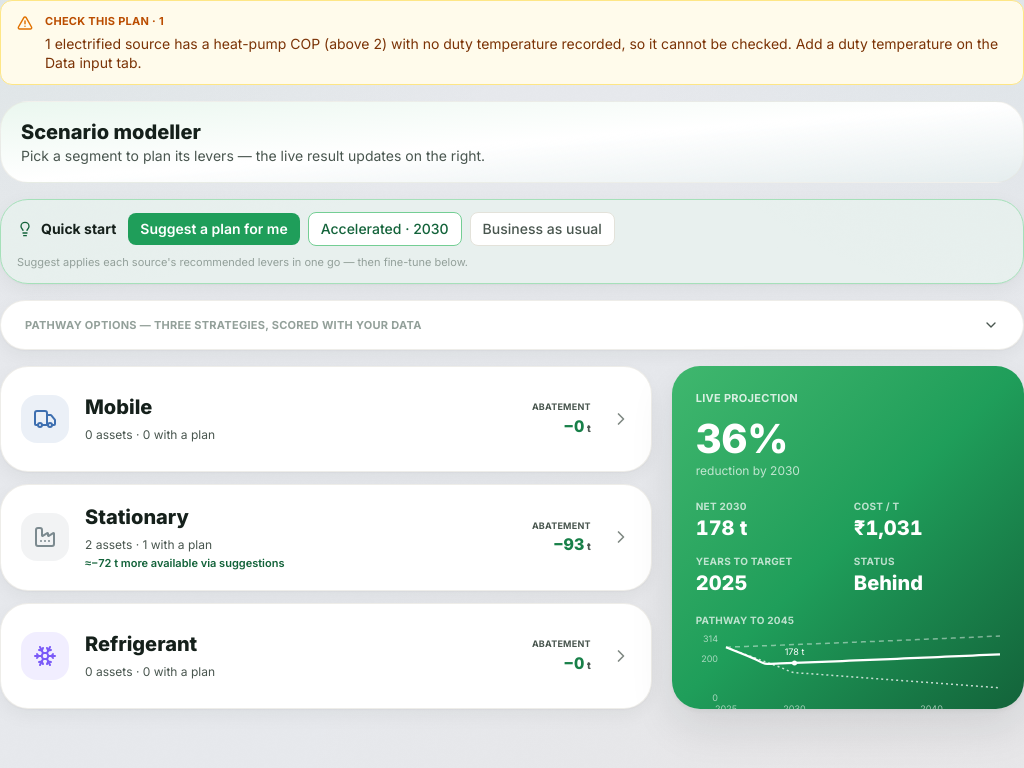
Test: BuilderTab — one planning card per equipment (Task 7, D3) › gives each card the machine's OWN allocated volume, not the source total
Click the text "Stationary" at (137, 517), box [85,505,189,529]
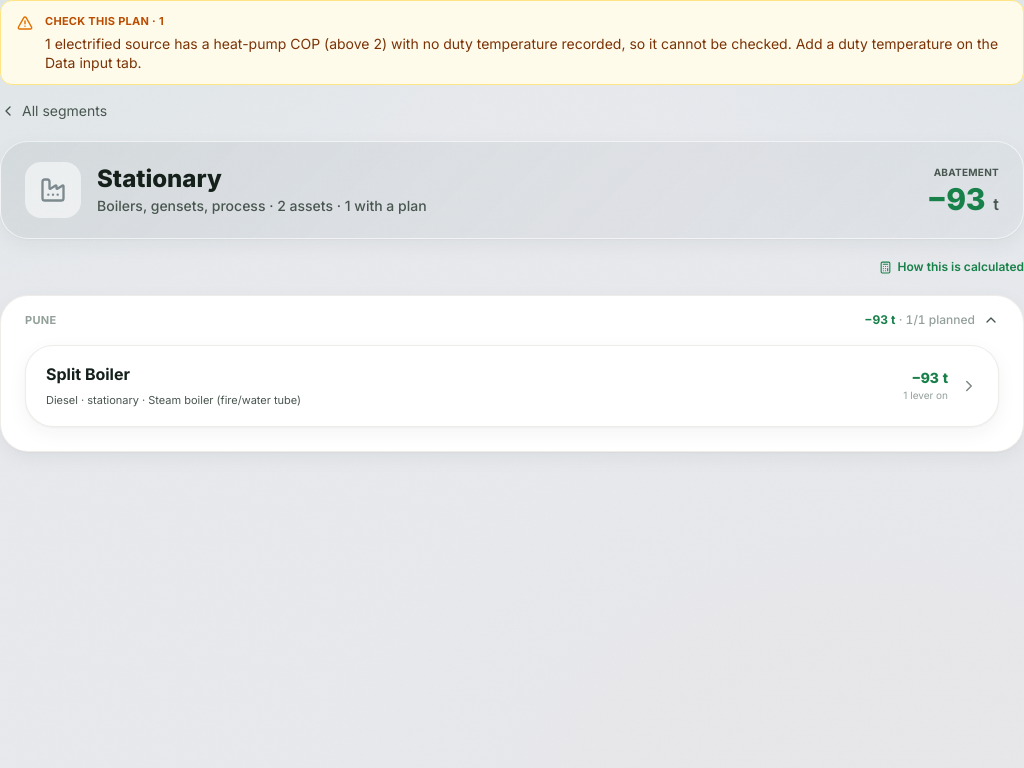
Click the text "Split Boiler" at (88, 374), box [46,362,130,386]
(page scrolled)
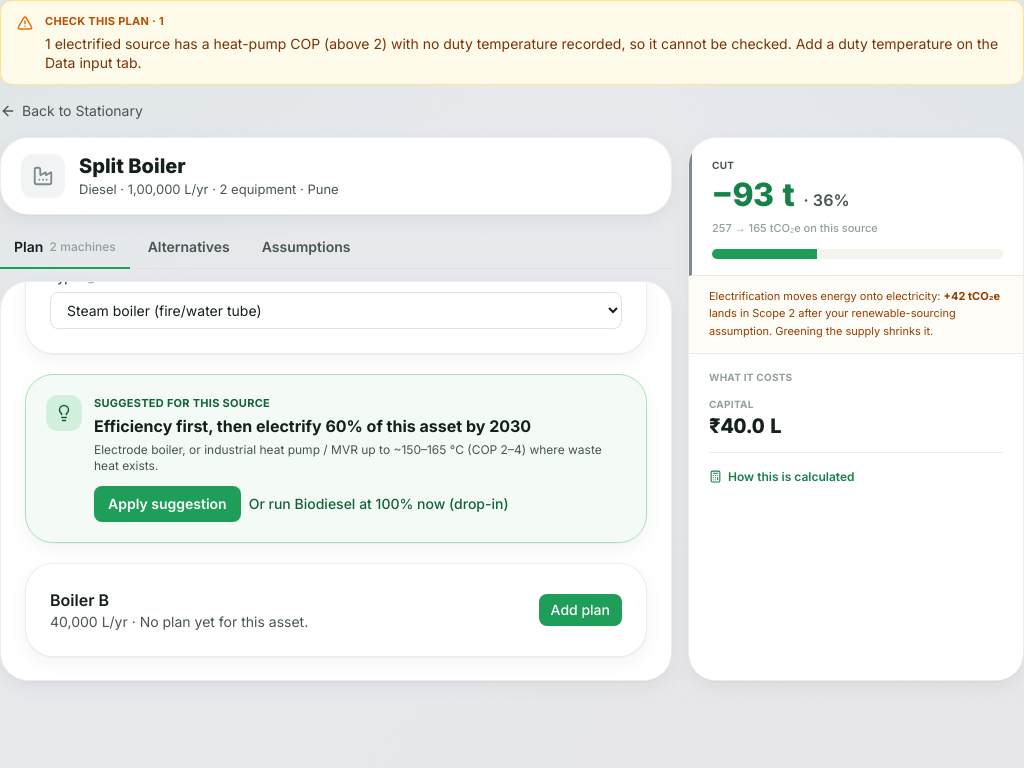
Expected: the element with test id "equipment-card-asset-b" shows "40,000 L/yr", [25,562,647,656]
